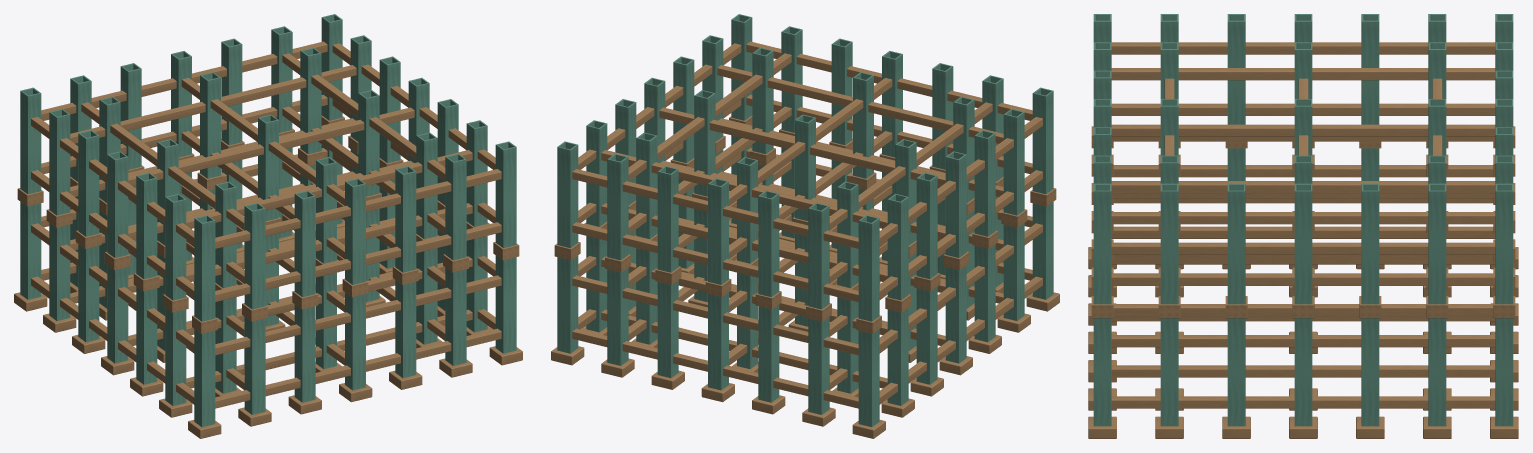
3 views of the same model, side by side, from view 1: azimuth 30°, elevation 25°; view 2: azimuth 150°, elevation 25°; view 3: azimuth 270°, elevation 25° (orthographic). The views are drawn at different scales.
Visible parts, largest first — view 1: Tier 1 internal tie 0-0-0-0.75, Tier 1 internal tie 0-0.56-0-0.75, Tier 0 tie 0-0-0.75, Tier 0 tie 0-0-0.25, Tier 1 tie 0-0-0.25, Tier 1 tie 0-0-0.75, Tier 1 upright 0, Tier 1 upright 4, Tier 1 upright 1, Tier 1 upright 5, Tier 1 upright 2, Tier 1 upright 6 (+71 smaller); view 2: Tier 1 internal tie 0-0-0-0.75, Tier 1 internal tie 0--0.56-0-0.75, Tier 0 tie 2-0-0.75, Tier 0 tie 2-0-0.25, Tier 1 tie 2-0-0.25, Tier 1 tie 2-0-0.75, Tier 1 upright 18, Tier 1 upright 14, Tier 1 upright 13, Tier 1 upright 17, Tier 1 upright 12, Tier 1 upright 16 (+71 smaller); view 3: Tier 1 internal tie 1--0.56-0-0.75, Tier 1 internal tie 1-0-0-0.75, Tier 1 internal tie 1-0.56-0-0.75, Tier 0 internal tie 1-0.56-0-0.25, Tier 0 tie 1-0-0.25, Tier 1 tie 1-0-0.25, Tier 1 tie 3-0-0.75, Tier 0 tie 1-0-0.75, Tier 1 internal tie 1-0.56-0-0.25, Tier 1 tie 1-0-0.75, Tier 1 tie 3-0-0.25, Tier 0 tie 3-0-0.25 (+60 smaller).
Part boxes in pixels (x1=…): Tier 1 internal tie 0-0-0-0.75: x1=128, y1=107, x2=414, y2=186; Tier 1 internal tie 0-0.56-0-0.75: x1=70, y1=65, x2=356, y2=143; Tier 0 tie 0-0-0.75: x1=215, y1=275, x2=501, y2=355; Tier 0 tie 0-0-0.25: x1=215, y1=328, x2=501, y2=408; Tier 1 tie 0-0-0.25: x1=215, y1=222, x2=501, y2=301; Tier 1 tie 0-0-0.75: x1=215, y1=169, x2=501, y2=248; Tier 1 upright 0: x1=194, y1=215, x2=215, y2=321; Tier 1 upright 4: x1=395, y1=166, x2=416, y2=272; Tier 1 upright 1: x1=244, y1=202, x2=265, y2=309; Tier 1 upright 5: x1=445, y1=153, x2=466, y2=260; Tier 1 upright 2: x1=294, y1=190, x2=315, y2=297; Tier 1 upright 6: x1=495, y1=141, x2=516, y2=248; Tier 1 internal tie 0-0-0-0.75: x1=659, y1=107, x2=945, y2=186; Tier 1 internal tie 0--0.56-0-0.75: x1=717, y1=65, x2=1003, y2=143; Tier 0 tie 2-0-0.75: x1=572, y1=275, x2=858, y2=355; Tier 0 tie 2-0-0.25: x1=572, y1=328, x2=858, y2=408; Tier 1 tie 2-0-0.25: x1=572, y1=222, x2=858, y2=301; Tier 1 tie 2-0-0.75: x1=572, y1=169, x2=858, y2=248; Tier 1 upright 18: x1=858, y1=215, x2=879, y2=321; Tier 1 upright 14: x1=657, y1=166, x2=678, y2=272; Tier 1 upright 13: x1=607, y1=153, x2=628, y2=260; Tier 1 upright 17: x1=808, y1=202, x2=829, y2=309; Tier 1 upright 12: x1=557, y1=141, x2=578, y2=248; Tier 1 upright 16: x1=758, y1=190, x2=779, y2=297; Tier 1 internal tie 1--0.56-0-0.75: x1=1111, y1=68, x2=1495, y2=80; Tier 1 internal tie 1-0-0-0.75: x1=1111, y1=124, x2=1495, y2=136; Tier 1 internal tie 1-0.56-0-0.75: x1=1111, y1=181, x2=1495, y2=193; Tier 0 internal tie 1-0.56-0-0.25: x1=1111, y1=365, x2=1495, y2=377; Tier 0 tie 1-0-0.25: x1=1111, y1=396, x2=1495, y2=408; Tier 1 tie 1-0-0.25: x1=1111, y1=273, x2=1495, y2=285; Tier 1 tie 3-0-0.75: x1=1111, y1=42, x2=1495, y2=54; Tier 0 tie 1-0-0.75: x1=1111, y1=335, x2=1495, y2=347; Tier 1 internal tie 1-0.56-0-0.25: x1=1111, y1=242, x2=1495, y2=254; Tier 1 tie 1-0-0.75: x1=1111, y1=212, x2=1495, y2=224; Tier 1 tie 3-0-0.25: x1=1111, y1=103, x2=1495, y2=115; Tier 0 tie 3-0-0.25: x1=1111, y1=226, x2=1495, y2=238.
Bounding box in the file's own units: 1.8 × 1.13 × 1.8.
2 materials, 2 textured.
